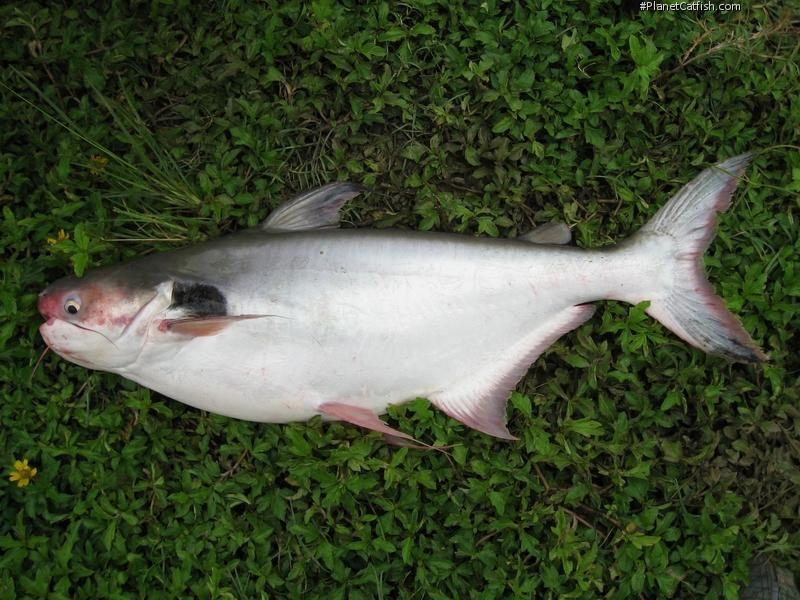Pangasius: (41, 152, 773, 453)
